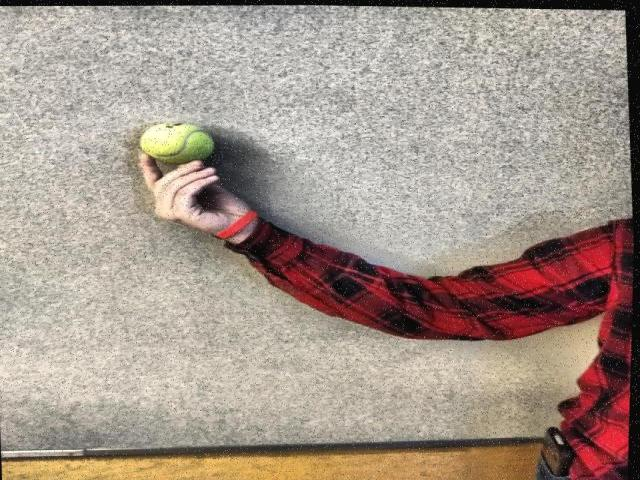tennis-ball: (140, 122, 213, 162)
